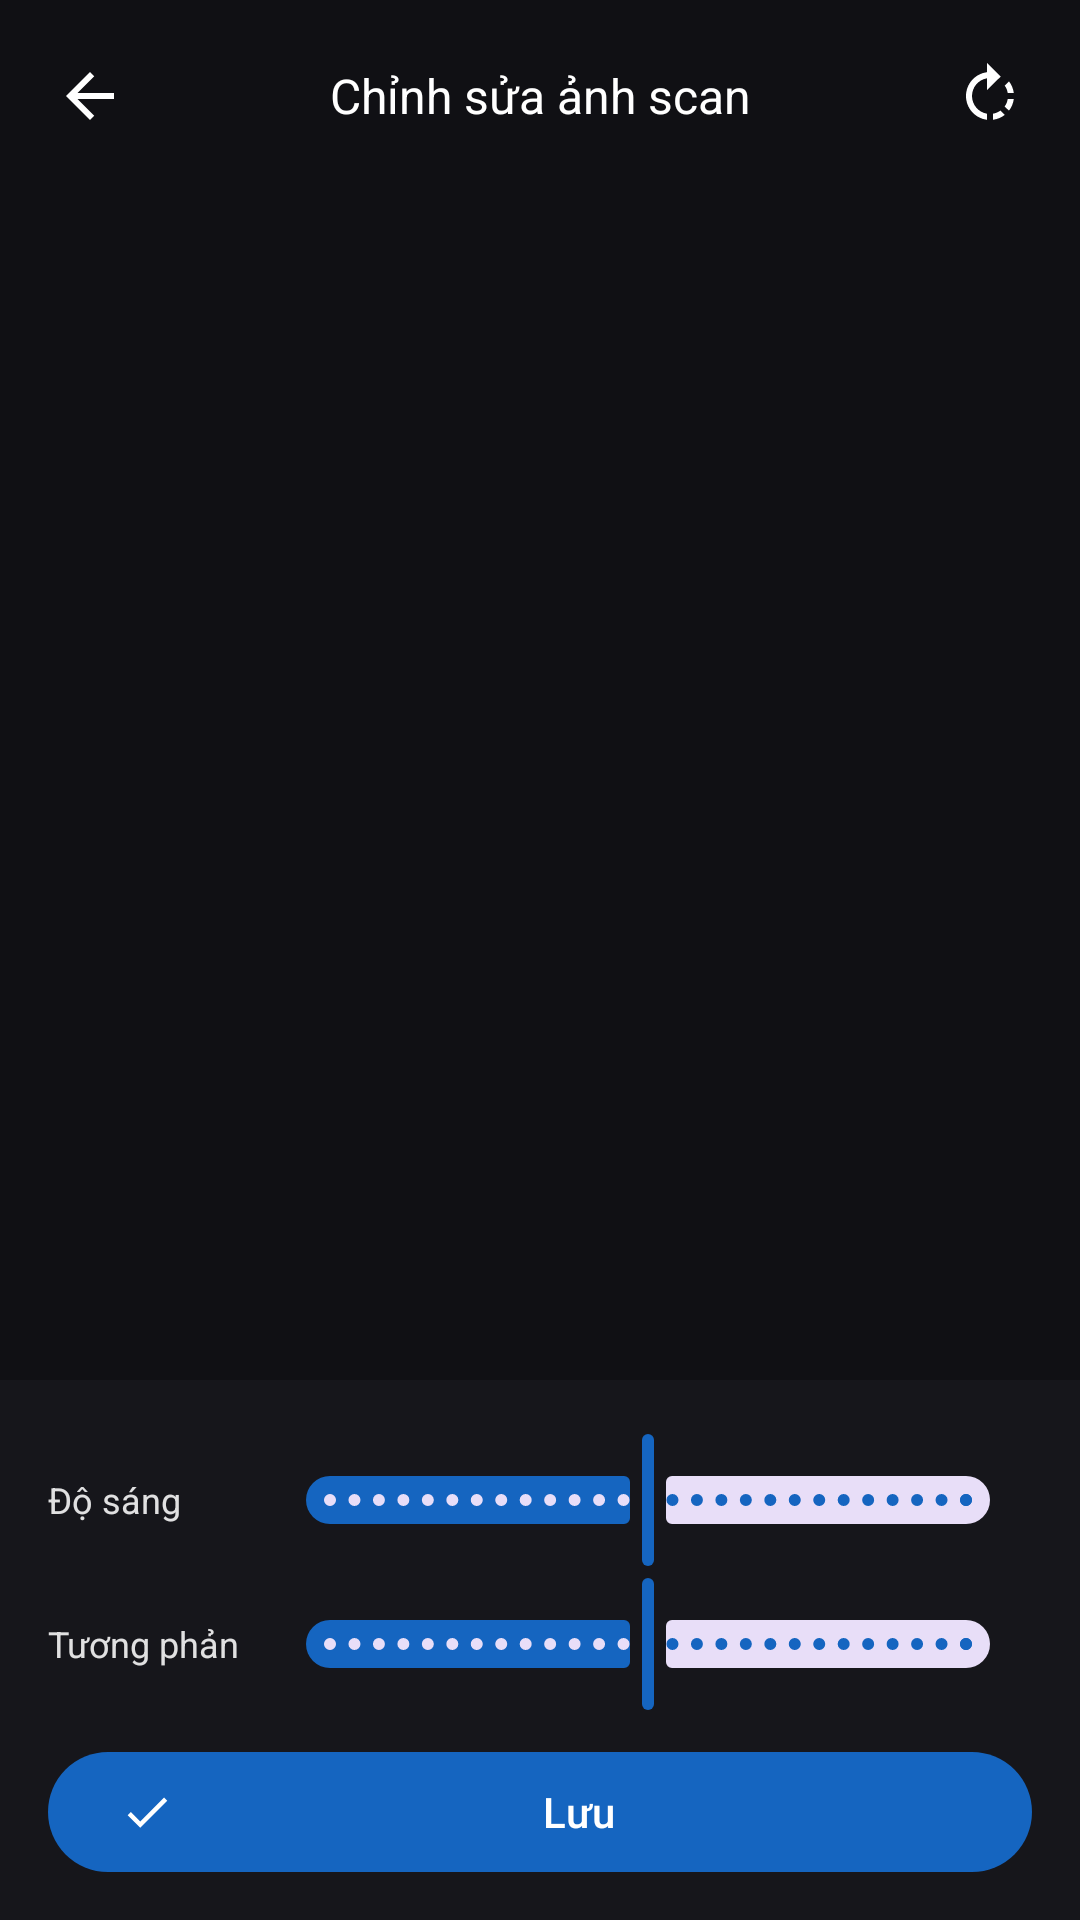

Icon bounding boxes for this 1080px x 1920px phone screenshot, format (x1, y1, x2, y2):
Quay lại: (66, 72, 114, 120)
Xoay phải: (966, 63, 1014, 120)
